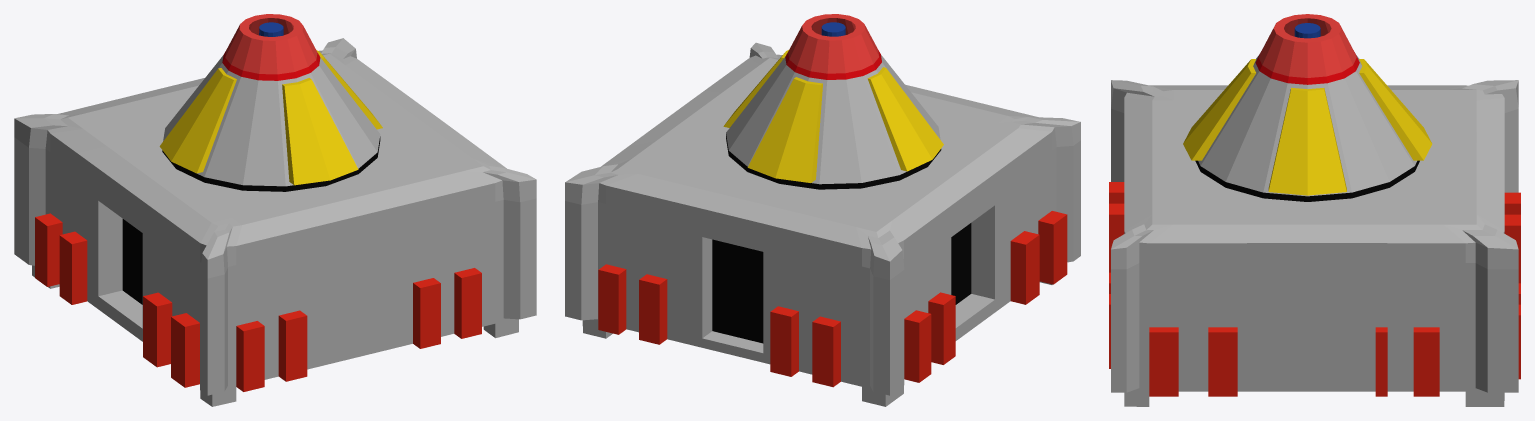
Rendered from Máquina da Empresa.fbx.
3 views of the same model, side by side, from view 1: azimuth 30°, elevation 25°; view 2: azimuth 150°, elevation 25°; view 3: azimuth 270°, elevation 25° (orthographic). The views are drawn at different scales.
Parts seen in each view (by area): view 1: Cube.001, Cylinder; view 2: Cube.001, Cylinder; view 3: Cube.001, Cylinder.
Part boxes in pixels (x1,y1,x2,y2): Cube.001: [14, 38, 536, 406]; Cylinder: [159, 14, 382, 191]; Cube.001: [565, 42, 1080, 406]; Cylinder: [723, 14, 943, 189]; Cube.001: [1109, 80, 1520, 406]; Cylinder: [1183, 14, 1432, 201].
Size of what is drawn, in the model's own units: 2460 by 1978 by 2495.
